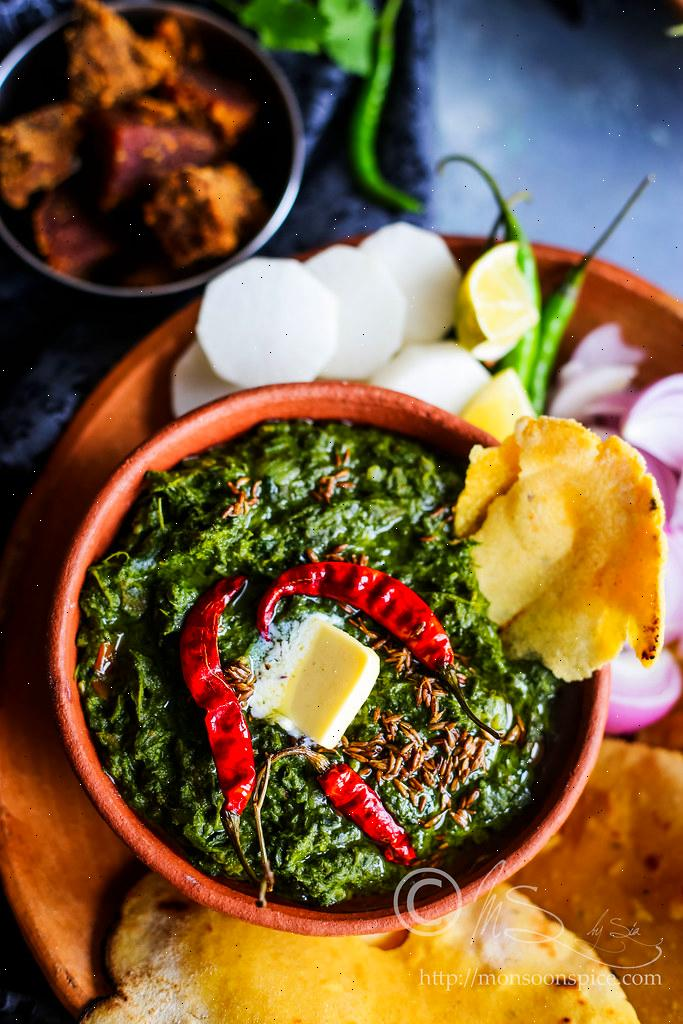saag: (80, 434, 585, 901)
